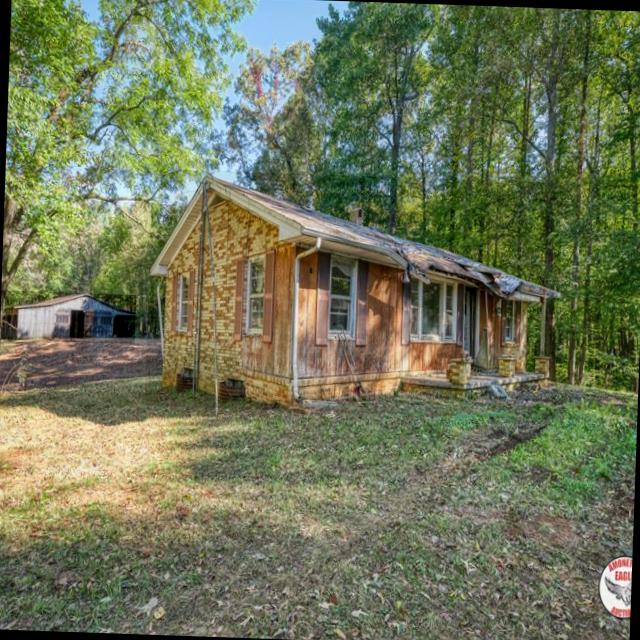House: (144, 168, 563, 419), (0, 289, 136, 343)
